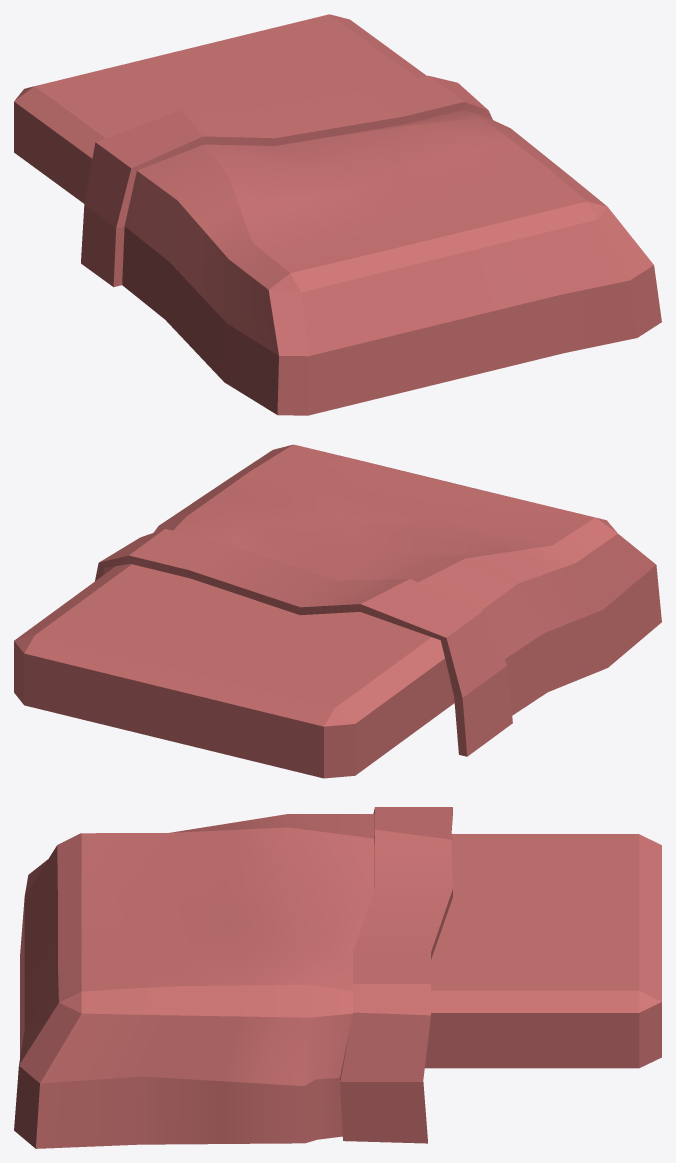
File: bed_ani_test.fbx
The picture shows the model from 3 angles, top to bottom: view 1: azimuth 30°, elevation 25°; view 2: azimuth 150°, elevation 25°; view 3: azimuth 270°, elevation 25°; orthographic projection. The views are drawn at different scales.
Visible parts, largest first — view 1: blanket1, bed1; view 2: blanket1, bed1; view 3: blanket1, bed1.
Boxes of the visible parts, left/top/right/bottom form: blanket1: left=81, top=75, right=661, bottom=415; bed1: left=14, top=14, right=426, bottom=203; blanket1: left=95, top=444, right=661, bottom=756; bed1: left=14, top=564, right=454, bottom=778; blanket1: left=14, top=807, right=452, bottom=1148; bed1: left=425, top=834, right=661, bottom=1068.
Bounding box in the file's own units: 53.63 × 18.72 × 69.41.
